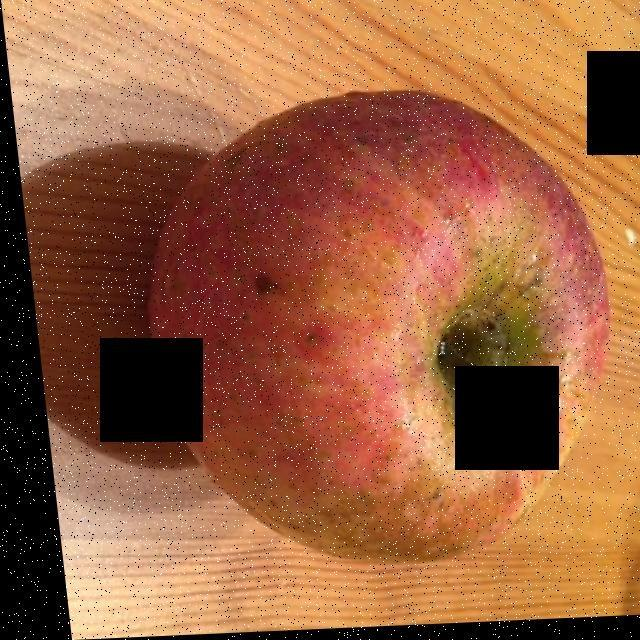apple: (148, 103, 594, 565)
